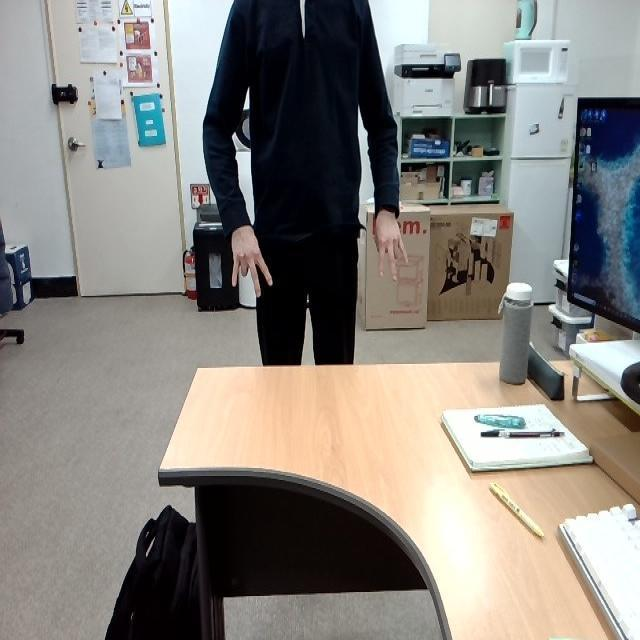bare_hand: (225, 222, 279, 302), (366, 207, 411, 280)
